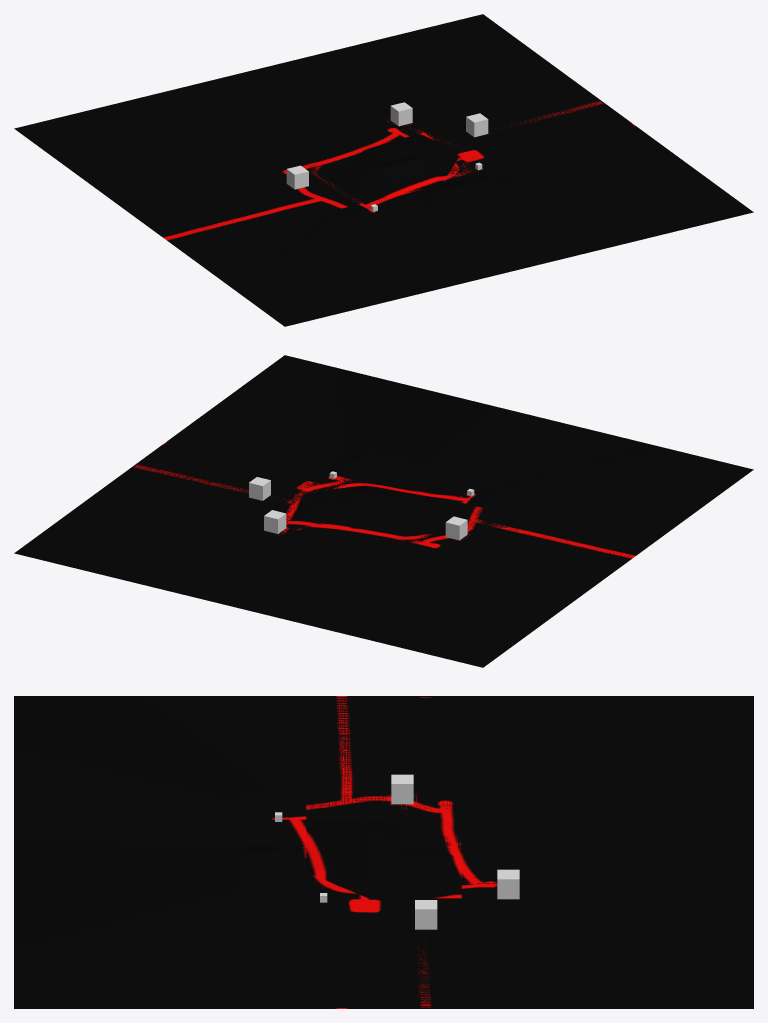
File: terrain.glb
3 views of the same model, one above another, from view 1: azimuth 30°, elevation 25°; view 2: azimuth 150°, elevation 25°; view 3: azimuth 270°, elevation 25° (orthographic). The views are drawn at different scales.
Visible parts, largest first — view 1: Plane-col, Plane-noimp; view 2: Plane-col, Plane-noimp; view 3: Plane-col, Plane-noimp, Church-noimp, Church.002-noimp, Church.001-noimp.
Boxes of the visible parts, x1=… form: Plane-col: x1=14, y1=14, x2=753, y2=326; Plane-noimp: x1=26, y1=16, x2=750, y2=325; Plane-col: x1=14, y1=355, x2=753, y2=667; Plane-noimp: x1=16, y1=357, x2=751, y2=658; Plane-col: x1=14, y1=696, x2=753, y2=1008; Plane-noimp: x1=16, y1=697, x2=751, y2=1007; Church-noimp: x1=391, y1=774, x2=413, y2=804; Church.002-noimp: x1=497, y1=869, x2=519, y2=899; Church.001-noimp: x1=415, y1=900, x2=437, y2=929.
Size of the model in its own units: 521 by 20.66 by 521.
Materials: 1 (1 with a texture image).
